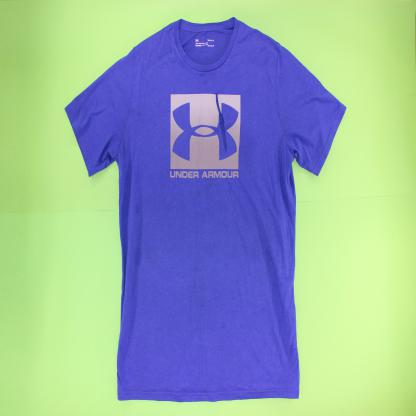hole: (213, 92, 228, 155)
